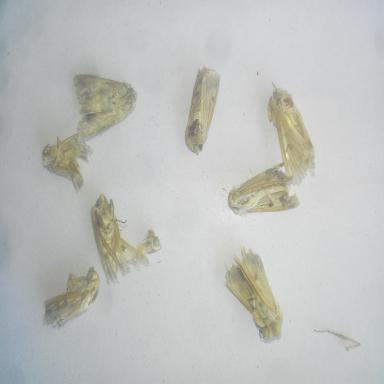abw: (220, 242, 285, 345), (264, 75, 321, 191), (85, 190, 151, 290), (224, 150, 302, 223), (68, 68, 140, 144), (39, 262, 105, 334), (183, 60, 226, 160), (39, 127, 96, 193)
